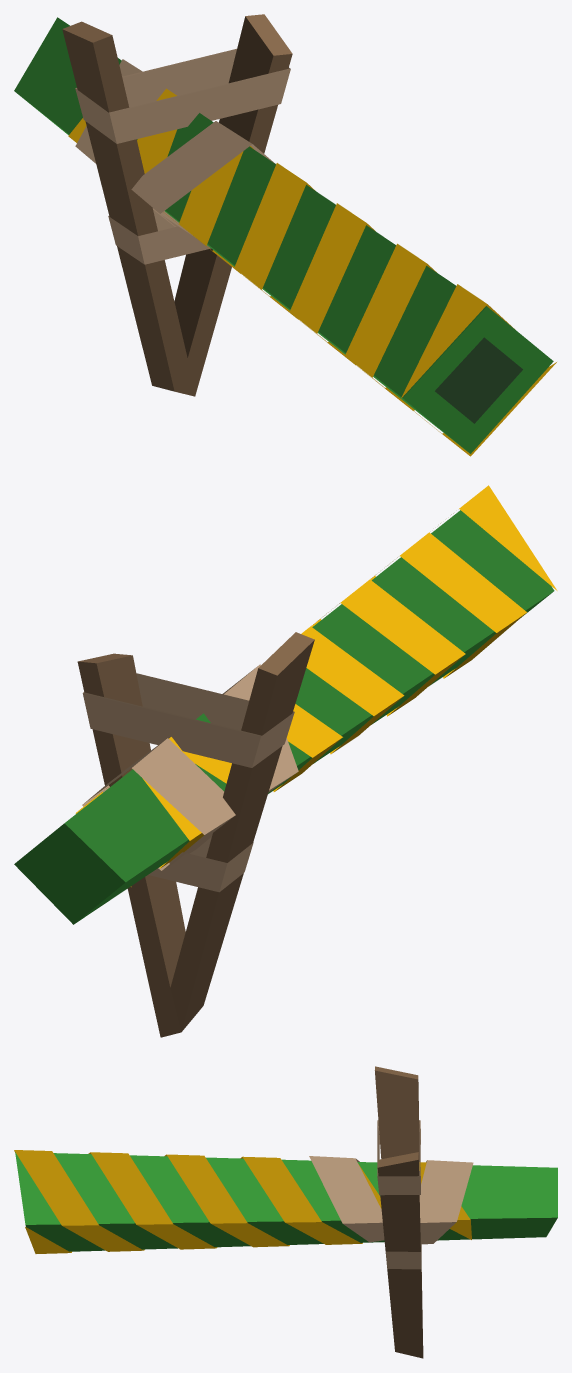
Rendered from Item_PartyPoppers02.FBX.
3 renders of one model, top to bottom at view 1: azimuth 30°, elevation 25°; view 2: azimuth 150°, elevation 25°; view 3: azimuth 270°, elevation 25°, orthographic. The views are drawn at different scales.
Visible parts, largest first — view 1: Item_PartyPoppers02; view 2: Item_PartyPoppers02; view 3: Item_PartyPoppers02.
Boxes of the visible parts, x1=… form: Item_PartyPoppers02: x1=14, y1=14, x2=556, y2=456; Item_PartyPoppers02: x1=14, y1=485, x2=557, y2=1037; Item_PartyPoppers02: x1=14, y1=1066, x2=557, y2=1358.
Bounding box in the file's own units: 12.33 × 23.3 × 44.57.
